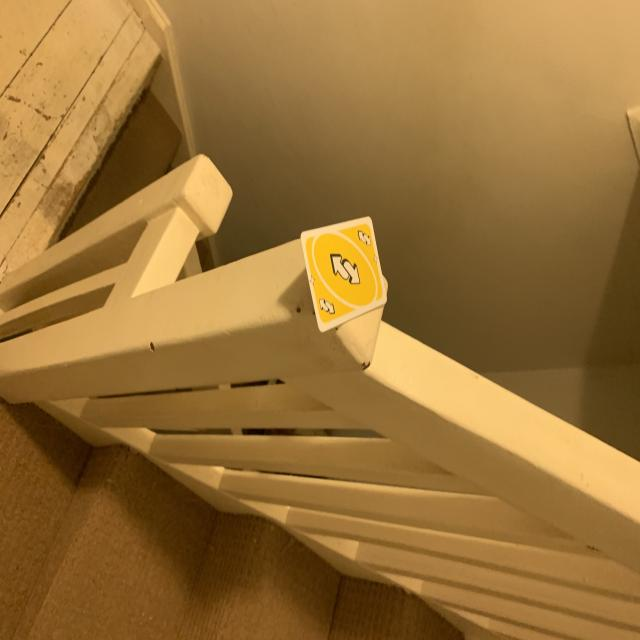lyellowrevers-20: (355, 226, 373, 249)
